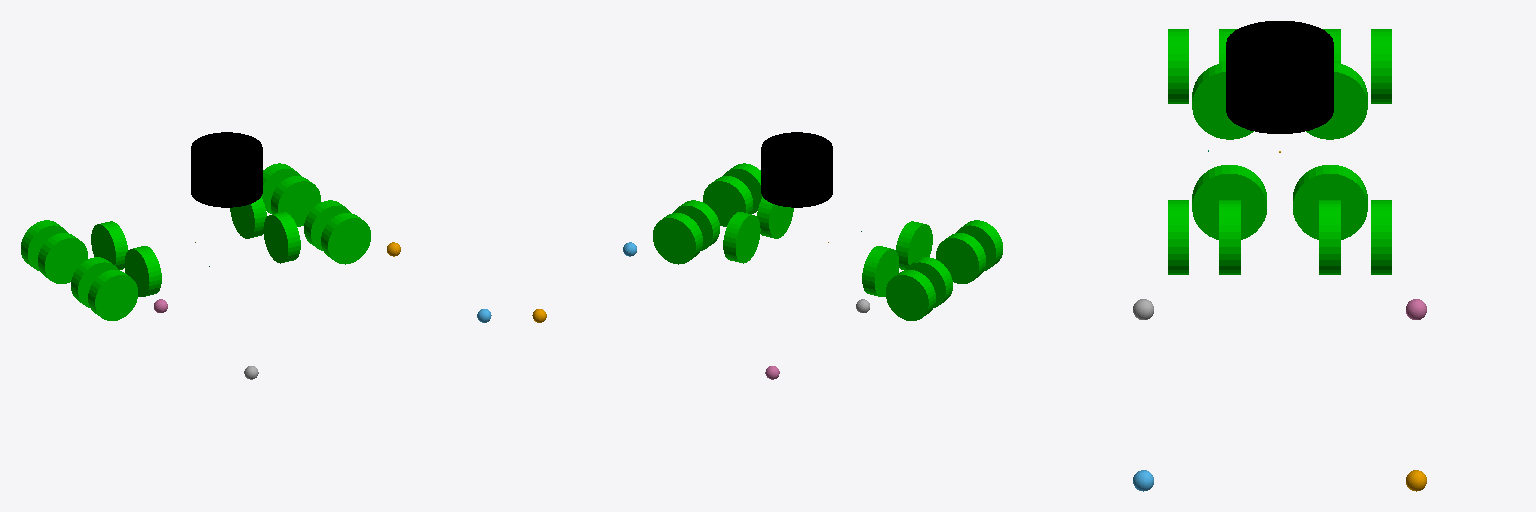
--- Render facts (derived) ---
The picture shows the robot from 3 angles, left to right: view 1: azimuth 30°, elevation 25°; view 2: azimuth 150°, elevation 25°; view 3: azimuth 270°, elevation 25°; orthographic projection.
Model go1 with 42 links and 41 joints (12 revolute, 29 fixed), rooted at base_link, posed all joints at 0 but 4 set to mid-range because 0 is outside their limits (FR_calf_joint = -1.85, FL_calf_joint = -1.85, RR_calf_joint = -1.85, RL_calf_joint = -1.85).
Links seen in each view (by area): view 1: laser_link, FR_calf_rotor, RR_calf_rotor, RL_thigh_rotor, FL_thigh_rotor, FR_hip_rotor, RR_hip_rotor, RL_hip_rotor, RL_calf_rotor, RR_thigh_rotor, FR_thigh_rotor, FL_hip_rotor (+1 smaller); view 2: laser_link, FL_calf_rotor, RL_calf_rotor, RR_thigh_rotor, FR_thigh_rotor, FL_hip_rotor, RL_hip_rotor, RR_hip_rotor, RR_calf_rotor, RL_thigh_rotor, FL_thigh_rotor, FR_hip_rotor (+1 smaller); view 3: laser_link, FR_hip_rotor, FL_hip_rotor, RR_hip_rotor, RL_hip_rotor, FR_thigh_rotor, FL_thigh_rotor, FR_calf_rotor, FL_calf_rotor, RR_calf_rotor, RL_calf_rotor.
Boxes of the visible links, x1,y1,x2,y2 form: laser_link: [191, 132, 262, 207]; FR_calf_rotor: [321, 213, 370, 264]; RR_calf_rotor: [88, 270, 137, 320]; RL_thigh_rotor: [38, 233, 87, 283]; FL_thigh_rotor: [271, 176, 320, 226]; FR_hip_rotor: [263, 212, 300, 263]; RR_hip_rotor: [125, 246, 161, 296]; RL_hip_rotor: [91, 221, 127, 269]; RL_calf_rotor: [21, 220, 67, 270]; RR_thigh_rotor: [71, 257, 117, 307]; FR_thigh_rotor: [304, 200, 350, 250]; FL_hip_rotor: [230, 197, 266, 238]; laser_link: [761, 132, 832, 207]; FL_calf_rotor: [653, 213, 702, 264]; RL_calf_rotor: [886, 270, 935, 320]; RR_thigh_rotor: [936, 233, 985, 283]; FR_thigh_rotor: [703, 176, 752, 226]; FL_hip_rotor: [723, 212, 760, 263]; RL_hip_rotor: [862, 246, 898, 296]; RR_hip_rotor: [896, 221, 932, 269]; RR_calf_rotor: [956, 220, 1002, 270]; RL_thigh_rotor: [906, 257, 952, 307]; FL_thigh_rotor: [673, 200, 719, 250]; FR_hip_rotor: [757, 197, 793, 238]; laser_link: [1226, 21, 1333, 133]; FR_hip_rotor: [1192, 165, 1266, 239]; FL_hip_rotor: [1293, 165, 1367, 239]; RR_hip_rotor: [1192, 63, 1253, 139]; RL_hip_rotor: [1306, 63, 1367, 139]; FR_thigh_rotor: [1219, 200, 1240, 274]; FL_thigh_rotor: [1319, 200, 1340, 274]; FR_calf_rotor: [1168, 200, 1188, 274]; FL_calf_rotor: [1371, 200, 1391, 274]; RR_calf_rotor: [1168, 29, 1188, 103]; RL_calf_rotor: [1371, 29, 1391, 103].
Bounding box of the posed robot: 0.6257 × 0.2735 × 0.2986 m (x, y, z).
Meshes: 6 distinct files referenced, 0 mesh visuals loaded (none loaded); not drawn: 18 (reference not matched to a file when rendering).

The robot description file, URDF, robot "go1":
<?xml version="1.0" ?>
<!-- =================================================================================== -->
<!-- |    This document was autogenerated by xacro from [local-path]/a1_ros2_ws/install/go1_description/share/go1_description/xacro/robot1.xacro | -->
<!-- |    EDITING THIS FILE BY HAND IS NOT RECOMMENDED                                 | -->
<!-- =================================================================================== -->
<robot name="go1">
  <material name="black">
    <color rgba="0.0 0.0 0.0 1.0"/>
  </material>
  <material name="blue">
    <color rgba="0.0 0.0 0.8 1.0"/>
  </material>
  <material name="green">
    <color rgba="0.0 0.8 0.0 1.0"/>
  </material>
  <material name="grey">
    <color rgba="0.2 0.2 0.2 1.0"/>
  </material>
  <material name="silver">
    <color rgba="0.9137254901960784 0.9137254901960784 0.8470588235294118 1.0"/>
  </material>
  <material name="orange">
    <color rgba="1.0 0.4235294117647059 0.0392156862745098 1.0"/>
  </material>
  <material name="brown">
    <color rgba="0.8705882352941177 0.8117647058823529 0.7647058823529411 1.0"/>
  </material>
  <material name="red">
    <color rgba="0.8 0.0 0.0 1.0"/>
  </material>
  <material name="white">
    <color rgba="1.0 1.0 1.0 1.0"/>
  </material>
  <!-- DO NOT include gazebo.xacro or ros2_control.xacro here; they inject Classic plugins -->
  <!-- Minimal base -->
  <link name="base_link">
    <visual>
      <origin rpy="0 0 0" xyz="0 0 0"/>
      <geometry>
        <box size="0.001 0.001 0.001"/>
      </geometry>
    </visual>
  </link>
  <joint name="floating_base" type="fixed">
    <origin rpy="0 0 0" xyz="0 0 0"/>
    <parent link="base_link"/>
    <child link="trunk"/>
  </joint>
  <!-- Trunk -->
  <link name="trunk">
    <visual>
      <origin rpy="0 0 0" xyz="0 0 0"/>
      <geometry>
        <mesh filename="package://go1_description/meshes/trunk.dae" scale="1 1 1"/>
      </geometry>
    </visual>
    <collision>
      <origin rpy="0 0 0" xyz="0 0 0"/>
      <geometry>
        <box size="0.3762 0.0935 0.114"/>
      </geometry>
    </collision>
    <inertial>
      <origin rpy="0 0 0" xyz="0.0223 0.002 -0.0005"/>
      <mass value="5.204"/>
      <inertia ixx="0.0168128557" ixy="-0.0002296769" ixz="-0.0002945293" iyy="0.063009565" iyz="-4.18731e-05" izz="0.0716547275"/>
    </inertial>
  </link>
  <!-- IMU -->
  <joint name="imu_joint" type="fixed">
    <parent link="trunk"/>
    <child link="imu_link"/>
    <origin rpy="0 0 0" xyz="-0.01592 -0.06659 -0.00617"/>
  </joint>
  <link name="imu_link">
    <inertial>
      <mass value="0.001"/>
      <origin rpy="0 0 0" xyz="0 0 0"/>
      <inertia ixx="0.0001" ixy="0" ixz="0" iyy="0.0001" iyz="0" izz="0.0001"/>
    </inertial>
    <visual>
      <origin rpy="0 0 0" xyz="0 0 0"/>
      <geometry>
        <box size="0.001 0.001 0.001"/>
      </geometry>
    </visual>
    <collision>
      <origin rpy="0 0 0" xyz="0 0 0"/>
      <geometry>
        <box size="0.001 0.001 0.001"/>
      </geometry>
    </collision>
  </link>
  <gazebo reference="imu_link">
    <sensor name="imu_sensor" type="imu">
      <always_on>true</always_on>
      <update_rate>400</update_rate>
      <visualize>false</visualize>
    </sensor>
  </gazebo>
  <joint name="FR_hip_joint" type="revolute">
    <origin rpy="0 0 0" xyz="0.1881 -0.04675 0"/>
    <parent link="trunk"/>
    <child link="FR_hip"/>
    <axis xyz="1 0 0"/>
    <dynamics damping="0.01" friction="0.2"/>
    <limit effort="23.7" lower="-0.863" upper="0.863" velocity="30.1"/>
  </joint>
  <joint name="FR_hip_rotor_joint" type="fixed">
    <origin rpy="0 0 0" xyz="0.11215 -0.04675 0"/>
    <parent link="trunk"/>
    <child link="FR_hip_rotor"/>
  </joint>
  <link name="FR_hip">
    <visual>
      <origin rpy="3.141592653589793 0 0" xyz="0 0 0"/>
      <geometry>
        <mesh filename="package://go1_description/meshes/hip.dae" scale="1 1 1"/>
      </geometry>
      <!-- <material name="orange"/> -->
    </visual>
    <collision>
      <origin rpy="1.5707963267948966 0 0" xyz="0 -0.08 0"/>
      <geometry>
        <cylinder length="0.04" radius="0.046"/>
      </geometry>
    </collision>
    <inertial>
      <origin rpy="0 0 0" xyz="-0.005657 0.008752 -0.000102"/>
      <mass value="0.591"/>
      <inertia ixx="0.000334008405" ixy="1.0826066e-05" ixz="1.290732e-06" iyy="0.000619101213" iyz="-1.643194e-06" izz="0.00040057614"/>
    </inertial>
  </link>
  <link name="FR_hip_rotor">
    <visual>
      <origin rpy="0 1.5707963267948966 0" xyz="0 0 0"/>
      <geometry>
        <cylinder length="0.02" radius="0.035"/>
      </geometry>
      <material name="green"/>
    </visual>
    <!-- <collision>
                <origin rpy="0 ${PI/2.0} 0" xyz="0 0 0"/>
                <geometry>
                    <cylinder length="0.02" radius="0.035"/>
                </geometry>
            </collision> -->
    <inertial>
      <origin rpy="0 0 0" xyz="0.0 0.0 0.0"/>
      <mass value="0.089"/>
      <inertia ixx="0.000111842" ixy="0.0" ixz="0.0" iyy="5.9647e-05" iyz="0.0" izz="5.9647e-05"/>
    </inertial>
  </link>
  <joint name="FR_thigh_joint" type="revolute">
    <origin rpy="0 0 0" xyz="0 -0.08 0"/>
    <parent link="FR_hip"/>
    <child link="FR_thigh"/>
    <axis xyz="0 1 0"/>
    <dynamics damping="0.01" friction="0.2"/>
    <limit effort="23.7" lower="-0.686" upper="4.501" velocity="30.1"/>
  </joint>
  <joint name="FR_thigh_rotor_joint" type="fixed">
    <origin rpy="0 0 0" xyz="0.0 0.00015 0"/>
    <parent link="FR_hip"/>
    <child link="FR_thigh_rotor"/>
  </joint>
  <link name="FR_thigh">
    <visual>
      <origin rpy="0 0 0" xyz="0 0 0"/>
      <geometry>
        <mesh filename="package://go1_description/meshes/thigh_mirror.dae" scale="1 1 1"/>
      </geometry>
      <!-- <material name="orange"/> -->
    </visual>
    <collision>
      <origin rpy="0 1.5707963267948966 0" xyz="0 0 -0.1065"/>
      <geometry>
        <box size="0.213 0.0245 0.034"/>
      </geometry>
    </collision>
    <inertial>
      <origin rpy="0 0 0" xyz="-0.003342 0.018054 -0.033451"/>
      <mass value="0.92"/>
      <inertia ixx="0.004431760472" ixy="-5.7496807e-05" ixz="-0.000218457134" iyy="0.004485671726" iyz="-0.000572001265" izz="0.000740309489"/>
    </inertial>
  </link>
  <link name="FR_thigh_rotor">
    <visual>
      <origin rpy="1.5707963267948966 0 0" xyz="0 0 0"/>
      <geometry>
        <cylinder length="0.02" radius="0.035"/>
      </geometry>
      <material name="green"/>
    </visual>
    <!-- <collision>
                <origin rpy="${PI/2.0} 0 0" xyz="0 0 0"/>
                <geometry>
                    <cylinder length="0.02" radius="0.035"/>
                </geometry>
            </collision> -->
    <inertial>
      <origin rpy="0 0 0" xyz="0.0 0.0 0.0"/>
      <mass value="0.089"/>
      <inertia ixx="5.9647e-05" ixy="0.0" ixz="0.0" iyy="0.000111842" iyz="0.0" izz="5.9647e-05"/>
    </inertial>
  </link>
  <joint name="FR_calf_joint" type="revolute">
    <origin rpy="0 0 0" xyz="0 0 -0.213"/>
    <parent link="FR_thigh"/>
    <child link="FR_calf"/>
    <axis xyz="0 1 0"/>
    <dynamics damping="0.01" friction="0.2"/>
    <limit effort="35.55" lower="-2.818" upper="-0.888" velocity="20.06"/>
  </joint>
  <joint name="FR_calf_rotor_joint" type="fixed">
    <origin rpy="0 0 0" xyz="0.0 0.03235 0"/>
    <parent link="FR_thigh"/>
    <child link="FR_calf_rotor"/>
  </joint>
  <link name="FR_calf">
    <visual>
      <origin rpy="0 0 0" xyz="0 0 0"/>
      <geometry>
        <mesh filename="package://go1_description/meshes/calf.dae" scale="1 1 1"/>
      </geometry>
      <!-- <material name="orange"/> -->
    </visual>
    <collision>
      <origin rpy="0 1.5707963267948966 0" xyz="0 0 -0.1065"/>
      <geometry>
        <box size="0.213 0.016 0.016"/>
      </geometry>
    </collision>
    <inertial>
      <origin rpy="0 0 0" xyz="0.006197 0.001408 -0.116695"/>
      <mass value="0.135862"/>
      <inertia ixx="0.001088793059" ixy="-2.55679e-07" ixz="7.117814e-06" iyy="0.001100428748" iyz="2.077264e-06" izz="2.4787446e-05"/>
    </inertial>
  </link>
  <link name="FR_calf_rotor">
    <visual>
      <origin rpy="1.5707963267948966 0 0" xyz="0 0 0"/>
      <geometry>
        <cylinder length="0.02" radius="0.035"/>
      </geometry>
      <material name="green"/>
    </visual>
    <!-- <collision>
                <origin rpy="${PI/2.0} 0 0" xyz="0 0 0"/>
                <geometry>
                    <cylinder length="0.02" radius="0.035"/>
                </geometry>
            </collision> -->
    <inertial>
      <origin rpy="0 0 0" xyz="0.0 0.0 0.0"/>
      <mass value="0.089"/>
      <inertia ixx="5.9647e-05" ixy="0.0" ixz="0.0" iyy="0.000111842" iyz="0.0" izz="5.9647e-05"/>
    </inertial>
  </link>
  <joint name="FR_foot_fixed" type="fixed">
    <origin rpy="0 0 0" xyz="0 0 -0.213"/>
    <parent link="FR_calf"/>
    <child link="FR_foot"/>
  </joint>
  <link name="FR_foot">
    <visual>
      <origin rpy="0 0 0" xyz="0 0 0"/>
      <geometry>
        <sphere radius="0.01"/>
      </geometry>
      <!-- <material name="orange"/> -->
    </visual>
    <collision>
      <origin rpy="0 0 0" xyz="0 0 0"/>
      <geometry>
        <sphere radius="0.02"/>
      </geometry>
    </collision>
    <inertial>
      <mass value="0.06"/>
      <inertia ixx="9.600000000000001e-06" ixy="0.0" ixz="0.0" iyy="9.600000000000001e-06" iyz="0.0" izz="9.600000000000001e-06"/>
    </inertial>
  </link>
  <transmission name="FR_hip_tran">
    <type>transmission_interface/SimpleTransmission</type>
    <joint name="FR_hip_joint">
      <hardwareInterface>hardware_interface/EffortJointInterface</hardwareInterface>
    </joint>
    <actuator name="FR_hip_motor">
      <hardwareInterface>hardware_interface/EffortJointInterface</hardwareInterface>
      <mechanicalReduction>1</mechanicalReduction>
    </actuator>
  </transmission>
  <transmission name="FR_thigh_tran">
    <type>transmission_interface/SimpleTransmission</type>
    <joint name="FR_thigh_joint">
      <hardwareInterface>hardware_interface/EffortJointInterface</hardwareInterface>
    </joint>
    <actuator name="FR_thigh_motor">
      <hardwareInterface>hardware_interface/EffortJointInterface</hardwareInterface>
      <mechanicalReduction>1</mechanicalReduction>
    </actuator>
  </transmission>
  <transmission name="FR_calf_tran">
    <type>transmission_interface/SimpleTransmission</type>
    <joint name="FR_calf_joint">
      <hardwareInterface>hardware_interface/EffortJointInterface</hardwareInterface>
    </joint>
    <actuator name="FR_calf_motor">
      <hardwareInterface>hardware_interface/EffortJointInterface</hardwareInterface>
      <mechanicalReduction>1</mechanicalReduction>
    </actuator>
  </transmission>
  <joint name="FL_hip_joint" type="revolute">
    <origin rpy="0 0 0" xyz="0.1881 0.04675 0"/>
    <parent link="trunk"/>
    <child link="FL_hip"/>
    <axis xyz="1 0 0"/>
    <dynamics damping="0.01" friction="0.2"/>
    <limit effort="23.7" lower="-0.863" upper="0.863" velocity="30.1"/>
  </joint>
  <joint name="FL_hip_rotor_joint" type="fixed">
    <origin rpy="0 0 0" xyz="0.11215 0.04675 0"/>
    <parent link="trunk"/>
    <child link="FL_hip_rotor"/>
  </joint>
  <link name="FL_hip">
    <visual>
      <origin rpy="0 0 0" xyz="0 0 0"/>
      <geometry>
        <mesh filename="package://go1_description/meshes/hip.dae" scale="1 1 1"/>
      </geometry>
      <!-- <material name="orange"/> -->
    </visual>
    <collision>
      <origin rpy="1.5707963267948966 0 0" xyz="0 0.08 0"/>
      <geometry>
        <cylinder length="0.04" radius="0.046"/>
      </geometry>
    </collision>
    <inertial>
      <origin rpy="0 0 0" xyz="-0.005657 -0.008752 -0.000102"/>
      <mass value="0.591"/>
      <inertia ixx="0.000334008405" ixy="-1.0826066e-05" ixz="1.290732e-06" iyy="0.000619101213" iyz="1.643194e-06" izz="0.00040057614"/>
    </inertial>
  </link>
  <link name="FL_hip_rotor">
    <visual>
      <origin rpy="0 1.5707963267948966 0" xyz="0 0 0"/>
      <geometry>
        <cylinder length="0.02" radius="0.035"/>
      </geometry>
      <material name="green"/>
    </visual>
    <!-- <collision>
                <origin rpy="0 ${PI/2.0} 0" xyz="0 0 0"/>
                <geometry>
                    <cylinder length="0.02" radius="0.035"/>
                </geometry>
            </collision> -->
    <inertial>
      <origin rpy="0 0 0" xyz="0.0 0.0 0.0"/>
      <mass value="0.089"/>
      <inertia ixx="0.000111842" ixy="0.0" ixz="0.0" iyy="5.9647e-05" iyz="0.0" izz="5.9647e-05"/>
    </inertial>
  </link>
  <joint name="FL_thigh_joint" type="revolute">
    <origin rpy="0 0 0" xyz="0 0.08 0"/>
    <parent link="FL_hip"/>
    <child link="FL_thigh"/>
    <axis xyz="0 1 0"/>
    <dynamics damping="0.01" friction="0.2"/>
    <limit effort="23.7" lower="-0.686" upper="4.501" velocity="30.1"/>
  </joint>
  <joint name="FL_thigh_rotor_joint" type="fixed">
    <origin rpy="0 0 0" xyz="0.0 -0.00015 0"/>
    <parent link="FL_hip"/>
    <child link="FL_thigh_rotor"/>
  </joint>
  <link name="FL_thigh">
    <visual>
      <origin rpy="0 0 0" xyz="0 0 0"/>
      <geometry>
        <mesh filename="package://go1_description/meshes/thigh.dae" scale="1 1 1"/>
      </geometry>
      <!-- <material name="orange"/> -->
    </visual>
    <collision>
      <origin rpy="0 1.5707963267948966 0" xyz="0 0 -0.1065"/>
      <geometry>
        <box size="0.213 0.0245 0.034"/>
      </geometry>
    </collision>
    <inertial>
      <origin rpy="0 0 0" xyz="-0.003342 -0.018054 -0.033451"/>
      <mass value="0.92"/>
      <inertia ixx="0.004431760472" ixy="5.7496807e-05" ixz="-0.000218457134" iyy="0.004485671726" iyz="0.000572001265" izz="0.000740309489"/>
    </inertial>
  </link>
  <link name="FL_thigh_rotor">
    <visual>
      <origin rpy="1.5707963267948966 0 0" xyz="0 0 0"/>
      <geometry>
        <cylinder length="0.02" radius="0.035"/>
      </geometry>
      <material name="green"/>
    </visual>
    <!-- <collision>
                <origin rpy="${PI/2.0} 0 0" xyz="0 0 0"/>
                <geometry>
                    <cylinder length="0.02" radius="0.035"/>
                </geometry>
            </collision> -->
    <inertial>
      <origin rpy="0 0 0" xyz="0.0 0.0 0.0"/>
      <mass value="0.089"/>
      <inertia ixx="5.9647e-05" ixy="0.0" ixz="0.0" iyy="0.000111842" iyz="0.0" izz="5.9647e-05"/>
    </inertial>
  </link>
  <joint name="FL_calf_joint" type="revolute">
    <origin rpy="0 0 0" xyz="0 0 -0.213"/>
    <parent link="FL_thigh"/>
    <child link="FL_calf"/>
    <axis xyz="0 1 0"/>
    <dynamics damping="0.01" friction="0.2"/>
    <limit effort="35.55" lower="-2.818" upper="-0.888" velocity="20.06"/>
  </joint>
  <joint name="FL_calf_rotor_joint" type="fixed">
    <origin rpy="0 0 0" xyz="0.0 -0.03235 0"/>
    <parent link="FL_thigh"/>
    <child link="FL_calf_rotor"/>
  </joint>
  <link name="FL_calf">
    <visual>
      <origin rpy="0 0 0" xyz="0 0 0"/>
      <geometry>
        <mesh filename="package://go1_description/meshes/calf.dae" scale="1 1 1"/>
      </geometry>
      <!-- <material name="orange"/> -->
    </visual>
    <collision>
      <origin rpy="0 1.5707963267948966 0" xyz="0 0 -0.1065"/>
      <geometry>
        <box size="0.213 0.016 0.016"/>
      </geometry>
    </collision>
    <inertial>
      <origin rpy="0 0 0" xyz="0.006197 0.001408 -0.116695"/>
      <mass value="0.135862"/>
      <inertia ixx="0.001088793059" ixy="-2.55679e-07" ixz="7.117814e-06" iyy="0.001100428748" iyz="2.077264e-06" izz="2.4787446e-05"/>
    </inertial>
  </link>
  <link name="FL_calf_rotor">
    <visual>
      <origin rpy="1.5707963267948966 0 0" xyz="0 0 0"/>
      <geometry>
        <cylinder length="0.02" radius="0.035"/>
      </geometry>
      <material name="green"/>
    </visual>
    <!-- <collision>
                <origin rpy="${PI/2.0} 0 0" xyz="0 0 0"/>
                <geometry>
                    <cylinder length="0.02" radius="0.035"/>
                </geometry>
            </collision> -->
    <inertial>
      <origin rpy="0 0 0" xyz="0.0 0.0 0.0"/>
      <mass value="0.089"/>
      <inertia ixx="5.9647e-05" ixy="0.0" ixz="0.0" iyy="0.000111842" iyz="0.0" izz="5.9647e-05"/>
    </inertial>
  </link>
  <joint name="FL_foot_fixed" type="fixed">
    <origin rpy="0 0 0" xyz="0 0 -0.213"/>
    <parent link="FL_calf"/>
    <child link="FL_foot"/>
  </joint>
  <link name="FL_foot">
    <visual>
      <origin rpy="0 0 0" xyz="0 0 0"/>
      <geometry>
        <sphere radius="0.01"/>
      </geometry>
      <!-- <material name="orange"/> -->
    </visual>
    <collision>
      <origin rpy="0 0 0" xyz="0 0 0"/>
      <geometry>
        <sphere radius="0.02"/>
      </geometry>
    </collision>
    <inertial>
      <mass value="0.06"/>
      <inertia ixx="9.600000000000001e-06" ixy="0.0" ixz="0.0" iyy="9.600000000000001e-06" iyz="0.0" izz="9.600000000000001e-06"/>
    </inertial>
  </link>
  <transmission name="FL_hip_tran">
    <type>transmission_interface/SimpleTransmission</type>
    <joint name="FL_hip_joint">
      <hardwareInterface>hardware_interface/EffortJointInterface</hardwareInterface>
    </joint>
    <actuator name="FL_hip_motor">
      <hardwareInterface>hardware_interface/EffortJointInterface</hardwareInterface>
      <mechanicalReduction>1</mechanicalReduction>
    </actuator>
  </transmission>
  <transmission name="FL_thigh_tran">
    <type>transmission_interface/SimpleTransmission</type>
    <joint name="FL_thigh_joint">
      <hardwareInterface>hardware_interface/EffortJointInterface</hardwareInterface>
    </joint>
    <actuator name="FL_thigh_motor">
      <hardwareInterface>hardware_interface/EffortJointInterface</hardwareInterface>
      <mechanicalReduction>1</mechanicalReduction>
    </actuator>
  </transmission>
  <transmission name="FL_calf_tran">
    <type>transmission_interface/SimpleTransmission</type>
    <joint name="FL_calf_joint">
      <hardwareInterface>hardware_interface/EffortJointInterface</hardwareInterface>
    </joint>
    <actuator name="FL_calf_motor">
      <hardwareInterface>hardware_interface/EffortJointInterface</hardwareInterface>
      <mechanicalReduction>1</mechanicalReduction>
    </actuator>
  </transmission>
  <joint name="RR_hip_joint" type="revolute">
    <origin rpy="0 0 0" xyz="-0.1881 -0.04675 0"/>
    <parent link="trunk"/>
    <child link="RR_hip"/>
    <axis xyz="1 0 0"/>
    <dynamics damping="0.01" friction="0.2"/>
    <limit effort="23.7" lower="-0.863" upper="0.863" velocity="30.1"/>
  </joint>
  <joint name="RR_hip_rotor_joint" type="fixed">
    <origin rpy="0 0 0" xyz="-0.11215 -0.04675 0"/>
    <parent link="trunk"/>
    <child link="RR_hip_rotor"/>
  </joint>
  <link name="RR_hip">
    <visual>
      <origin rpy="3.141592653589793 3.141592653589793 0" xyz="0 0 0"/>
      <geometry>
        <mesh filename="package://go1_description/meshes/hip.dae" scale="1 1 1"/>
      </geometry>
      <!-- <material name="orange"/> -->
    </visual>
    <collision>
      <origin rpy="1.5707963267948966 0 0" xyz="0 -0.08 0"/>
      <geometry>
        <cylinder length="0.04" radius="0.046"/>
      </geometry>
    </collision>
    <inertial>
      <origin rpy="0 0 0" xyz="0.005657 0.008752 -0.000102"/>
      <mass value="0.591"/>
      <inertia ixx="0.000334008405" ixy="-1.0826066e-05" ixz="-1.290732e-06" iyy="0.000619101213" iyz="-1.643194e-06" izz="0.00040057614"/>
    </inertial>
  </link>
  <link name="RR_hip_rotor">
    <visual>
      <origin rpy="0 1.5707963267948966 0" xyz="0 0 0"/>
      <geometry>
        <cylinder length="0.02" radius="0.035"/>
      </geometry>
      <material name="green"/>
    </visual>
    <!-- <collision>
                <origin rpy="0 ${PI/2.0} 0" xyz="0 0 0"/>
                <geometry>
                    <cylinder length="0.02" radius="0.035"/>
                </geometry>
            </collision> -->
    <inertial>
      <origin rpy="0 0 0" xyz="0.0 0.0 0.0"/>
      <mass value="0.089"/>
      <inertia ixx="0.000111842" ixy="0.0" ixz="0.0" iyy="5.9647e-05" iyz="0.0" izz="5.9647e-05"/>
    </inertial>
  </link>
  <joint name="RR_thigh_joint" type="revolute">
    <origin rpy="0 0 0" xyz="0 -0.08 0"/>
    <parent link="RR_hip"/>
    <child link="RR_thigh"/>
    <axis xyz="0 1 0"/>
    <dynamics damping="0.01" friction="0.2"/>
    <limit effort="23.7" lower="-0.686" upper="4.501" velocity="30.1"/>
  </joint>
  <joint name="RR_thigh_rotor_joint" type="fixed">
    <origin rpy="0 0 0" xyz="0.0 0.00015 0"/>
    <parent link="RR_hip"/>
    <child link="RR_thigh_rotor"/>
  </joint>
  <link name="RR_thigh">
    <visual>
      <origin rpy="0 0 0" xyz="0 0 0"/>
      <geometry>
        <mesh filename="package://go1_description/meshes/thigh_mirror.dae" scale="1 1 1"/>
      </geometry>
      <!-- <material name="orange"/> -->
    </visual>
    <collision>
      <origin rpy="0 1.5707963267948966 0" xyz="0 0 -0.1065"/>
      <geometry>
        <box size="0.213 0.0245 0.034"/>
      </geometry>
    </collision>
    <inertial>
      <origin rpy="0 0 0" xyz="-0.003342 0.018054 -0.033451"/>
      <mass value="0.92"/>
      <inertia ixx="0.004431760472" ixy="-5.7496807e-05" ixz="-0.000218457134" iyy="0.004485671726" iyz="-0.000572001265" izz="0.000740309489"/>
    </inertial>
  </link>
  <link name="RR_thigh_rotor">
    <visual>
      <origin rpy="1.5707963267948966 0 0" xyz="0 0 0"/>
      <geometry>
        <cylinder length="0.02" radius="0.035"/>
      </geometry>
      <material name="green"/>
    </visual>
    <!-- <collision>
                <origin rpy="${PI/2.0} 0 0" xyz="0 0 0"/>
                <geometry>
                    <cylinder length="0.02" radius="0.035"/>
                </geometry>
            </collision> -->
    <inertial>
      <origin rpy="0 0 0" xyz="0.0 0.0 0.0"/>
      <mass value="0.089"/>
      <inertia ixx="5.9647e-05" ixy="0.0" ixz="0.0" iyy="0.000111842" iyz="0.0" izz="5.9647e-05"/>
    </inertial>
  </link>
  <joint name="RR_calf_joint" type="revolute">
    <origin rpy="0 0 0" xyz="0 0 -0.213"/>
    <parent link="RR_thigh"/>
    <child link="RR_calf"/>
    <axis xyz="0 1 0"/>
    <dynamics damping="0.01" friction="0.2"/>
    <limit effort="35.55" lower="-2.818" upper="-0.888" velocity="20.06"/>
  </joint>
  <joint name="RR_calf_rotor_joint" type="fixed">
    <origin rpy="0 0 0" xyz="0.0 0.03235 0"/>
    <parent link="RR_thigh"/>
    <child link="RR_calf_rotor"/>
  </joint>
  <link name="RR_calf">
    <visual>
      <origin rpy="0 0 0" xyz="0 0 0"/>
      <geometry>
        <mesh filename="package://go1_description/meshes/calf.dae" scale="1 1 1"/>
      </geometry>
      <!-- <material name="orange"/> -->
    </visual>
    <collision>
      <origin rpy="0 1.5707963267948966 0" xyz="0 0 -0.1065"/>
      <geometry>
        <box size="0.213 0.016 0.016"/>
      </geometry>
    </collision>
    <inertial>
      <origin rpy="0 0 0" xyz="0.006197 0.001408 -0.116695"/>
      <mass value="0.135862"/>
      <inertia ixx="0.001088793059" ixy="-2.55679e-07" ixz="7.117814e-06" iyy="0.001100428748" iyz="2.077264e-06" izz="2.4787446e-05"/>
    </inertial>
  </link>
  <link name="RR_calf_rotor">
    <visual>
      <origin rpy="1.5707963267948966 0 0" xyz="0 0 0"/>
      <geometry>
        <cylinder length="0.02" radius="0.035"/>
      </geometry>
      <material name="green"/>
    </visual>
    <!-- <collision>
                <origin rpy="${PI/2.0} 0 0" xyz="0 0 0"/>
                <geometry>
                    <cylinder length="0.02" radius="0.035"/>
                </geometry>
            </collision> -->
    <inertial>
      <origin rpy="0 0 0" xyz="0.0 0.0 0.0"/>
      <mass value="0.089"/>
      <inertia ixx="5.9647e-05" ixy="0.0" ixz="0.0" iyy="0.000111842" iyz="0.0" izz="5.9647e-05"/>
    </inertial>
  </link>
  <joint name="RR_foot_fixed" type="fixed">
    <origin rpy="0 0 0" xyz="0 0 -0.213"/>
    <parent link="RR_calf"/>
    <child link="RR_foot"/>
  </joint>
  <link name="RR_foot">
    <visual>
      <origin rpy="0 0 0" xyz="0 0 0"/>
      <geometry>
        <sphere radius="0.01"/>
      </geometry>
      <!-- <material name="orange"/> -->
    </visual>
    <collision>
      <origin rpy="0 0 0" xyz="0 0 0"/>
      <geometry>
        <sphere radius="0.02"/>
      </geometry>
    </collision>
    <inertial>
      <mass value="0.06"/>
      <inertia ixx="9.600000000000001e-06" ixy="0.0" ixz="0.0" iyy="9.600000000000001e-06" iyz="0.0" izz="9.600000000000001e-06"/>
    </inertial>
  </link>
  <transmission name="RR_hip_tran">
    <type>transmission_interface/SimpleTransmission</type>
    <joint name="RR_hip_joint">
      <hardwareInterface>hardware_interface/EffortJointInterface</hardwareInterface>
    </joint>
    <actuator name="RR_hip_motor">
      <hardwareInterface>hardware_interface/EffortJointInterface</hardwareInterface>
      <mechanicalReduction>1</mechanicalReduction>
    </actuator>
  </transmission>
  <transmission name="RR_thigh_tran">
    <type>transmission_interface/SimpleTransmission</type>
    <joint name="RR_thigh_joint">
      <hardwareInterface>hardware_interface/EffortJointInterface</hardwareInterface>
    </joint>
    <actuator name="RR_thigh_motor">
      <hardwareInterface>hardware_interface/EffortJointInterface</hardwareInterface>
      <mechanicalReduction>1</mechanicalReduction>
    </actuator>
  </transmission>
  <transmission name="RR_calf_tran">
    <type>transmission_interface/SimpleTransmission</type>
    <joint name="RR_calf_joint">
      <hardwareInterface>hardware_interface/EffortJointInterface</hardwareInterface>
    </joint>
    <actuator name="RR_calf_motor">
      <hardwareInterface>hardware_interface/EffortJointInterface</hardwareInterface>
      <mechanicalReduction>1</mechanicalReduction>
    </actuator>
  </transmission>
  <joint name="RL_hip_joint" type="revolute">
    <origin rpy="0 0 0" xyz="-0.1881 0.04675 0"/>
    <parent link="trunk"/>
    <child link="RL_hip"/>
    <axis xyz="1 0 0"/>
    <dynamics damping="0.01" friction="0.2"/>
    <limit effort="23.7" lower="-0.863" upper="0.863" velocity="30.1"/>
  </joint>
  <joint name="RL_hip_rotor_joint" type="fixed">
    <origin rpy="0 0 0" xyz="-0.11215 0.04675 0"/>
    <parent link="trunk"/>
    <child link="RL_hip_rotor"/>
  </joint>
  <link name="RL_hip">
    <visual>
      <origin rpy="0 3.141592653589793 0" xyz="0 0 0"/>
      <geometry>
        <mesh filename="package://go1_description/meshes/hip.dae" scale="1 1 1"/>
      </geometry>
      <!-- <material name="orange"/> -->
    </visual>
    <collision>
      <origin rpy="1.5707963267948966 0 0" xyz="0 0.08 0"/>
      <geometry>
        <cylinder length="0.04" radius="0.046"/>
      </geometry>
    </collision>
    <inertial>
      <origin rpy="0 0 0" xyz="0.005657 -0.008752 -0.000102"/>
      <mass value="0.591"/>
      <inertia ixx="0.000334008405" ixy="1.0826066e-05" ixz="-1.290732e-06" iyy="0.000619101213" iyz="1.643194e-06" izz="0.00040057614"/>
    </inertial>
  </link>
  <link name="RL_hip_rotor">
    <visual>
      <origin rpy="0 1.5707963267948966 0" xyz="0 0 0"/>
      <geometry>
        <cylinder length="0.02" radius="0.035"/>
      </geometry>
      <material name="green"/>
    </visual>
    <!-- <collision>
                <origin rpy="0 ${PI/2.0} 0" xyz="0 0 0"/>
                <geometry>
                    <cylinder length="0.02" radius="0.035"/>
                </geometry>
            </collision> -->
    <inertial>
      <origin rpy="0 0 0" xyz="0.0 0.0 0.0"/>
      <mass value="0.089"/>
      <inertia ixx="0.000111842" ixy="0.0" ixz="0.0" iyy="5.9647e-05" iyz="0.0" izz="5.9647e-05"/>
    </inertial>
  </link>
  <joint name="RL_thigh_joint" type="revolute">
    <origin rpy="0 0 0" xyz="0 0.08 0"/>
    <parent link="RL_hip"/>
    <child link="RL_thigh"/>
    <axis xyz="0 1 0"/>
    <dynamics damping="0.01" friction="0.2"/>
    <limit effort="23.7" lower="-0.686" upper="4.501" velocity="30.1"/>
  </joint>
  <joint name="RL_thigh_rotor_joint" type="fixed">
    <origin rpy="0 0 0" xyz="0.0 -0.00015 0"/>
    <parent link="RL_hip"/>
    <child link="RL_thigh_rotor"/>
  </joint>
  <link name="RL_thigh">
    <visual>
      <origin rpy="0 0 0" xyz="0 0 0"/>
      <geometry>
        <mesh filename="package://go1_description/meshes/thigh.dae" scale="1 1 1"/>
      </geometry>
      <!-- <material name="orange"/> -->
    </visual>
    <collision>
      <origin rpy="0 1.5707963267948966 0" xyz="0 0 -0.1065"/>
      <geometry>
        <box size="0.213 0.0245 0.034"/>
      </geometry>
    </collision>
    <inertial>
      <origin rpy="0 0 0" xyz="-0.003342 -0.018054 -0.033451"/>
      <mass value="0.92"/>
      <inertia ixx="0.004431760472" ixy="5.7496807e-05" ixz="-0.000218457134" iyy="0.004485671726" iyz="0.000572001265" izz="0.000740309489"/>
    </inertial>
  </link>
  <link name="RL_thigh_rotor">
    <visual>
      <origin rpy="1.5707963267948966 0 0" xyz="0 0 0"/>
      <geometry>
        <cylinder length="0.02" radius="0.035"/>
      </geometry>
      <material name="green"/>
    </visual>
    <!-- <collision>
                <origin rpy="${PI/2.0} 0 0" xyz="0 0 0"/>
                <geometry>
                    <cylinder length="0.02" radius="0.035"/>
                </geometry>
            </collision> -->
    <inertial>
      <origin rpy="0 0 0" xyz="0.0 0.0 0.0"/>
      <mass value="0.089"/>
      <inertia ixx="5.9647e-05" ixy="0.0" ixz="0.0" iyy="0.000111842" iyz="0.0" izz="5.9647e-05"/>
    </inertial>
  </link>
  <joint name="RL_calf_joint" type="revolute">
    <origin rpy="0 0 0" xyz="0 0 -0.213"/>
    <parent link="RL_thigh"/>
    <child link="RL_calf"/>
    <axis xyz="0 1 0"/>
    <dynamics damping="0.01" friction="0.2"/>
    <limit effort="35.55" lower="-2.818" upper="-0.888" velocity="20.06"/>
  </joint>
  <joint name="RL_calf_rotor_joint" type="fixed">
    <origin rpy="0 0 0" xyz="0.0 -0.03235 0"/>
    <parent link="RL_thigh"/>
    <child link="RL_calf_rotor"/>
  </joint>
  <link name="RL_calf">
    <visual>
      <origin rpy="0 0 0" xyz="0 0 0"/>
      <geometry>
        <mesh filename="package://go1_description/meshes/calf.dae" scale="1 1 1"/>
      </geometry>
      <!-- <material name="orange"/> -->
    </visual>
    <collision>
      <origin rpy="0 1.5707963267948966 0" xyz="0 0 -0.1065"/>
      <geometry>
        <box size="0.213 0.016 0.016"/>
      </geometry>
    </collision>
    <inertial>
      <origin rpy="0 0 0" xyz="0.006197 0.001408 -0.116695"/>
      <mass value="0.135862"/>
      <inertia ixx="0.001088793059" ixy="-2.55679e-07" ixz="7.117814e-06" iyy="0.001100428748" iyz="2.077264e-06" izz="2.4787446e-05"/>
    </inertial>
  </link>
  <link name="RL_calf_rotor">
    <visual>
      <origin rpy="1.5707963267948966 0 0" xyz="0 0 0"/>
      <geometry>
        <cylinder length="0.02" radius="0.035"/>
      </geometry>
      <material name="green"/>
    </visual>
    <!-- <collision>
                <origin rpy="${PI/2.0} 0 0" xyz="0 0 0"/>
                <geometry>
                    <cylinder length="0.02" radius="0.035"/>
                </geometry>
            </collision> -->
    <inertial>
      <origin rpy="0 0 0" xyz="0.0 0.0 0.0"/>
      <mass value="0.089"/>
      <inertia ixx="5.9647e-05" ixy="0.0" ixz="0.0" iyy="0.000111842" iyz="0.0" izz="5.9647e-05"/>
    </inertial>
  </link>
  <joint name="RL_foot_fixed" type="fixed">
    <origin rpy="0 0 0" xyz="0 0 -0.213"/>
    <parent link="RL_calf"/>
    <child link="RL_foot"/>
  </joint>
  <link name="RL_foot">
    <visual>
      <origin rpy="0 0 0" xyz="0 0 0"/>
      <geometry>
        <sphere radius="0.01"/>
      </geometry>
      <!-- <material name="orange"/> -->
    </visual>
    <collision>
      <origin rpy="0 0 0" xyz="0 0 0"/>
      <geometry>
        <sphere radius="0.02"/>
      </geometry>
    </collision>
    <inertial>
      <mass value="0.06"/>
      <inertia ixx="9.600000000000001e-06" ixy="0.0" ixz="0.0" iyy="9.600000000000001e-06" iyz="0.0" izz="9.600000000000001e-06"/>
    </inertial>
  </link>
  <transmission name="RL_hip_tran">
    <type>transmission_interface/SimpleTransmission</type>
    <joint name="RL_hip_joint">
      <hardwareInterface>hardware_interface/EffortJointInterface</hardwareInterface>
    </joint>
    <actuator name="RL_hip_motor">
      <hardwareInterface>hardware_interface/EffortJointInterface</hardwareInterface>
      <mechanicalReduction>1</mechanicalReduction>
    </actuator>
  </transmission>
  <transmission name="RL_thigh_tran">
    <type>transmission_interface/SimpleTransmission</type>
    <joint name="RL_thigh_joint">
      <hardwareInterface>hardware_interface/EffortJointInterface</hardwareInterface>
    </joint>
    <actuator name="RL_thigh_motor">
      <hardwareInterface>hardware_interface/EffortJointInterface</hardwareInterface>
      <mechanicalReduction>1</mechanicalReduction>
    </actuator>
  </transmission>
  <transmission name="RL_calf_tran">
    <type>transmission_interface/SimpleTransmission</type>
    <joint name="RL_calf_joint">
      <hardwareInterface>hardware_interface/EffortJointInterface</hardwareInterface>
    </joint>
    <actuator name="RL_calf_motor">
      <hardwareInterface>hardware_interface/EffortJointInterface</hardwareInterface>
      <mechanicalReduction>1</mechanicalReduction>
    </actuator>
  </transmission>
  <!-- Foot contacts (keep sensors in both backends; Unitree viz plugin only in Classic) -->
  <gazebo reference="FR_calf">
    <sensor name="FR_foot_contact" type="contact">
      <update_rate>100</update_rate>
      <contact>
        <collision>FR_calf_fixed_joint_lump__FR_foot_collision_1</collision>
      </contact>
    </sensor>
  </gazebo>
  <gazebo reference="FL_calf">
    <sensor name="FL_foot_contact" type="contact">
      <update_rate>100</update_rate>
      <contact>
        <collision>FL_calf_fixed_joint_lump__FL_foot_collision_1</collision>
      </contact>
    </sensor>
  </gazebo>
  <gazebo reference="RR_calf">
    <sensor name="RR_foot_contact" type="contact">
      <update_rate>100</update_rate>
      <contact>
        <collision>RR_calf_fixed_joint_lump__RR_foot_collision_1</collision>
      </contact>
    </sensor>
  </gazebo>
  <gazebo reference="RL_calf">
    <sensor name="RL_foot_contact" type="contact">
      <update_rate>100</update_rate>
      <contact>
        <collision>RL_calf_fixed_joint_lump__RL_foot_collision_1</collision>
      </contact>
    </sensor>
  </gazebo>
  <!-- Lidar -->
  <joint name="laser_joint" type="fixed">
    <parent link="trunk"/>
    <child link="laser_link"/>
    <origin rpy="0 0 0" xyz="0.05 0.0 0.1"/>
  </joint>
  <link name="laser_link">
    <collision>
      <origin rpy="0 0 0" xyz="0.05 0 0.5"/>
      <geometry>
        <cylinder length="0.05" radius="0.05"/>
      </geometry>
    </collision>
    <visual>
      <origin rpy="0 0 0" xyz="0 0 0"/>
      <geometry>
        <cylinder length="0.07" radius="0.05"/>
      </geometry>
      <material name="black"/>
    </visual>
    <inertial>
      <mass value="1e-5"/>
      <origin rpy="0 0 0" xyz="0 0 0"/>
      <inertia ixx="1e-6" ixy="0" ixz="0" iyy="1e-6" iyz="0" izz="1e-6"/>
    </inertial>
  </link>
  <gazebo reference="laser_link">
    <sensor name="lidar" type="ray">
      <pose>0 0 0 0 0 0</pose>
      <visualize>false</visualize>
      <update_rate>30</update_rate>
      <ray>
        <scan>
          <horizontal>
            <samples>450</samples>
            <resolution>1</resolution>
            <min_angle>0.0</min_angle>
            <max_angle>6.28319</max_angle>
          </horizontal>
        </scan>
        <range>
          <min>0.4</min>
          <max>35.0</max>
          <resolution>0.015</resolution>
        </range>
        <noise>
          <type>gaussian</type>
          <mean>0.0</mean>
          <stddev>0.01</stddev>
        </noise>
      </ray>
    </sensor>
  </gazebo>
  <joint name="camera_joint_face" type="fixed">
    <origin rpy="0 0 0" xyz="0.2785 -0.0125 0.0167"/>
    <parent link="trunk"/>
    <child link="camera_face"/>
  </joint>
  <link name="camera_face">
    <collision>
      <origin rpy="0 0 0" xyz="0 0 0"/>
      <geometry>
        <box size="0.001 0.001 0.001"/>
      </geometry>
    </collision>
    <visual>
      <origin rpy="0 0 0" xyz="0 0 0"/>
      <geometry>
        <mesh filename="package://go1_description/meshes/depthCamera.dae" scale="1 1 1"/>
      </geometry>
    </visual>
    <inertial>
      <mass value="1e-5"/>
      <origin rpy="0 0 0" xyz="0 0 0"/>
      <inertia ixx="1e-6" ixy="0" ixz="0" iyy="1e-6" iyz="0" izz="1e-6"/>
    </inertial>
  </link>
  <joint name="camera_optical_joint_face" type="fixed">
    <origin rpy="-1.5707963267948966 0 -1.5707963267948966" xyz="0 0 0"/>
    <parent link="camera_face"/>
    <child link="camera_optical_face"/>
  </joint>
  <link name="camera_optical_face"/>
  <gazebo reference="camera_face">
    <sensor name="camera_face_camera" type="depth_camera">
      <update_rate>16</update_rate>
      <camera>
        <horizontal_fov>2.094</horizontal_fov>
        <image>
          <width>928</width>
          <height>800</height>
          <format>B8G8R8</format>
        </image>
        <clip>
          <near>0.1</near>
          <far>5</far>
        </clip>
      </camera>
    </sensor>
  </gazebo>
  <joint name="camera_joint_chin" type="fixed">
    <origin rpy="0 1.5707963267948966 0" xyz="0.2522 -0.0125 -0.0436"/>
    <parent link="trunk"/>
    <child link="camera_chin"/>
  </joint>
  <link name="camera_chin">
    <collision>
      <origin rpy="0 0 0" xyz="0 0 0"/>
      <geometry>
        <box size="0.001 0.001 0.001"/>
      </geometry>
    </collision>
    <visual>
      <origin rpy="0 0 0" xyz="0 0 0"/>
      <geometry>
        <mesh filename="package://go1_description/meshes/depthCamera.dae" scale="1 1 1"/>
      </geometry>
    </visual>
    <inertial>
      <mass value="1e-5"/>
      <origin rpy="0 0 0" xyz="0 0 0"/>
      <inertia ixx="1e-6" ixy="0" ixz="0" iyy="1e-6" iyz="0" izz="1e-6"/>
    </inertial>
  </link>
  <joint name="camera_optical_joint_chin" type="fixed">
    <origin rpy="-1.5707963267948966 0 -1.5707963267948966" xyz="0 0 0"/>
    <parent link="camera_chin"/>
    <child link="camera_optical_chin"/>
  </joint>
  <link name="camera_optical_chin"/>
  <gazebo reference="camera_chin">
    <sensor name="camera_chin_camera" type="depth_camera">
      <update_rate>16</update_rate>
      <camera>
        <horizontal_fov>2.094</horizontal_fov>
        <image>
          <width>928</width>
          <height>800</height>
          <format>B8G8R8</format>
        </image>
        <clip>
          <near>0.1</near>
          <far>5</far>
        </clip>
      </camera>
    </sensor>
  </gazebo>
  <joint name="camera_joint_left" type="fixed">
    <origin rpy="0 0.2618 1.5707963267948966" xyz="-0.041 0.082 -0.0176"/>
    <parent link="trunk"/>
    <child link="camera_left"/>
  </joint>
  <link name="camera_left">
    <collision>
      <origin rpy="0 0 0" xyz="0 0 0"/>
      <geometry>
        <box size="0.001 0.001 0.001"/>
      </geometry>
    </collision>
    <visual>
      <origin rpy="0 0 0" xyz="0 0 0"/>
      <geometry>
        <mesh filename="package://go1_description/meshes/depthCamera.dae" scale="1 1 1"/>
      </geometry>
    </visual>
    <inertial>
      <mass value="1e-5"/>
      <origin rpy="0 0 0" xyz="0 0 0"/>
      <inertia ixx="1e-6" ixy="0" ixz="0" iyy="1e-6" iyz="0" izz="1e-6"/>
    </inertial>
  </link>
  <joint name="camera_optical_joint_left" type="fixed">
    <origin rpy="-1.5707963267948966 0 -1.5707963267948966" xyz="0 0 0"/>
    <parent link="camera_left"/>
    <child link="camera_optical_left"/>
  </joint>
  <link name="camera_optical_left"/>
  <gazebo reference="camera_left">
    <sensor name="camera_left_camera" type="depth_camera">
      <update_rate>16</update_rate>
      <camera>
        <horizontal_fov>2.094</horizontal_fov>
        <image>
          <width>928</width>
          <height>800</height>
          <format>B8G8R8</format>
        </image>
        <clip>
          <near>0.1</near>
          <far>5</far>
        </clip>
      </camera>
    </sensor>
  </gazebo>
  <joint name="camera_joint_right" type="fixed">
    <origin rpy="0 0.2618 -1.5707963267948966" xyz="-0.066 -0.082 -0.0176"/>
    <parent link="trunk"/>
    <child link="camera_right"/>
  </joint>
  <link name="camera_right">
    <collision>
      <origin rpy="0 0 0" xyz="0 0 0"/>
      <geometry>
        <box size="0.001 0.001 0.001"/>
      </geometry>
    </collision>
    <visual>
      <origin rpy="0 0 0" xyz="0 0 0"/>
      <geometry>
        <mesh filename="package://go1_description/meshes/depthCamera.dae" scale="1 1 1"/>
      </geometry>
    </visual>
    <inertial>
      <mass value="1e-5"/>
      <origin rpy="0 0 0" xyz="0 0 0"/>
      <inertia ixx="1e-6" ixy="0" ixz="0" iyy="1e-6" iyz="0" izz="1e-6"/>
    </inertial>
  </link>
  <joint name="camera_optical_joint_right" type="fixed">
    <origin rpy="-1.5707963267948966 0 -1.5707963267948966" xyz="0 0 0"/>
    <parent link="camera_right"/>
    <child link="camera_optical_right"/>
  </joint>
  <link name="camera_optical_right"/>
  <gazebo reference="camera_right">
    <sensor name="camera_right_camera" type="depth_camera">
      <update_rate>16</update_rate>
      <camera>
        <horizontal_fov>2.094</horizontal_fov>
        <image>
          <width>928</width>
          <height>800</height>
          <format>B8G8R8</format>
        </image>
        <clip>
          <near>0.1</near>
          <far>5</far>
        </clip>
      </camera>
    </sensor>
  </gazebo>
  <joint name="camera_joint_rearDown" type="fixed">
    <origin rpy="0 1.5707963267948966 0" xyz="-0.0825 -0.0125 -0.04365"/>
    <parent link="trunk"/>
    <child link="camera_rearDown"/>
  </joint>
  <link name="camera_rearDown">
    <collision>
      <origin rpy="0 0 0" xyz="0 0 0"/>
      <geometry>
        <box size="0.001 0.001 0.001"/>
      </geometry>
    </collision>
    <visual>
      <origin rpy="0 0 0" xyz="0 0 0"/>
      <geometry>
        <mesh filename="package://go1_description/meshes/depthCamera.dae" scale="1 1 1"/>
      </geometry>
    </visual>
    <inertial>
      <mass value="1e-5"/>
      <origin rpy="0 0 0" xyz="0 0 0"/>
      <inertia ixx="1e-6" ixy="0" ixz="0" iyy="1e-6" iyz="0" izz="1e-6"/>
    </inertial>
  </link>
  <joint name="camera_optical_joint_rearDown" type="fixed">
    <origin rpy="-1.5707963267948966 0 -1.5707963267948966" xyz="0 0 0"/>
    <parent link="camera_rearDown"/>
    <child link="camera_optical_rearDown"/>
  </joint>
  <link name="camera_optical_rearDown"/>
  <gazebo reference="camera_rearDown">
    <sensor name="camera_rearDown_camera" type="depth_camera">
      <update_rate>16</update_rate>
      <camera>
        <horizontal_fov>2.094</horizontal_fov>
        <image>
          <width>928</width>
          <height>800</height>
          <format>B8G8R8</format>
        </image>
        <clip>
          <near>0.1</near>
          <far>5</far>
        </clip>
      </camera>
    </sensor>
  </gazebo>
</robot>
